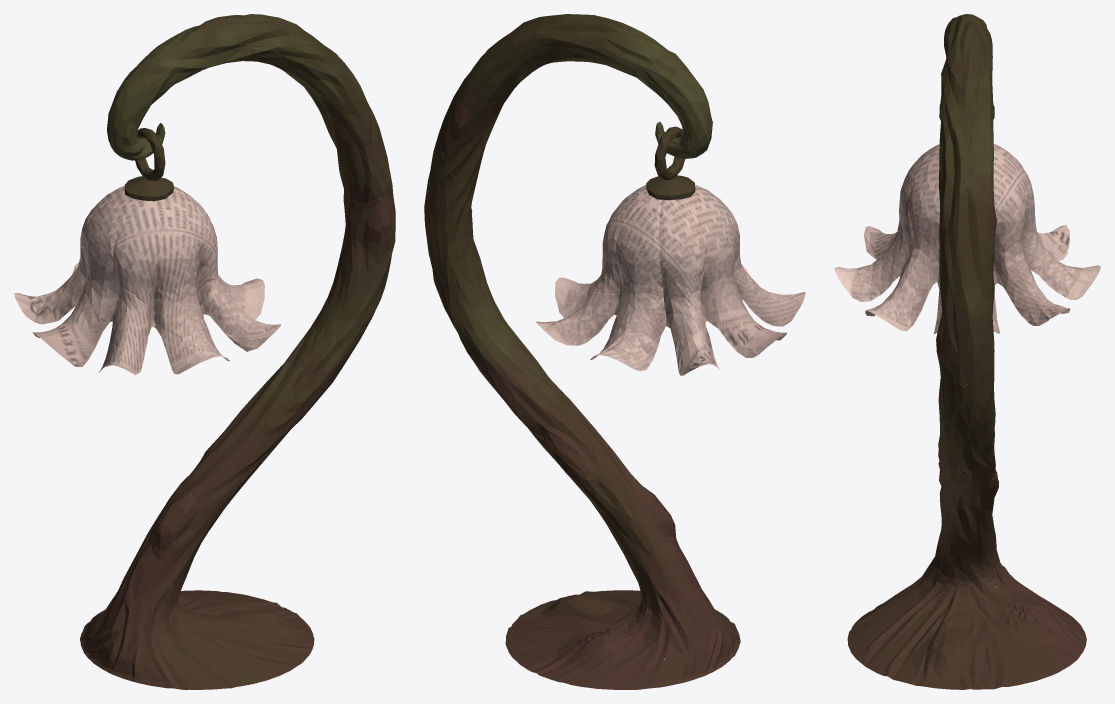
The model's file is lamp_maitland.glb.
The picture shows the model from 3 angles, left to right: view 1: azimuth 30°, elevation 25°; view 2: azimuth 150°, elevation 25°; view 3: azimuth 270°, elevation 25°; orthographic projection.
Visible parts, largest first — view 1: GLTF, GLTF_2; view 2: GLTF, GLTF_2; view 3: GLTF, GLTF_2.
Part boxes in pixels (bbox=[...]): GLTF: bbox=[80, 14, 395, 689]; GLTF_2: bbox=[14, 186, 280, 374]; GLTF: bbox=[424, 14, 740, 689]; GLTF_2: bbox=[536, 184, 805, 375]; GLTF: bbox=[847, 14, 1086, 689]; GLTF_2: bbox=[834, 144, 1100, 333].
Size of the model in its own units: 1.13 by 1.86 by 0.7216.
2 materials, 2 textured.
